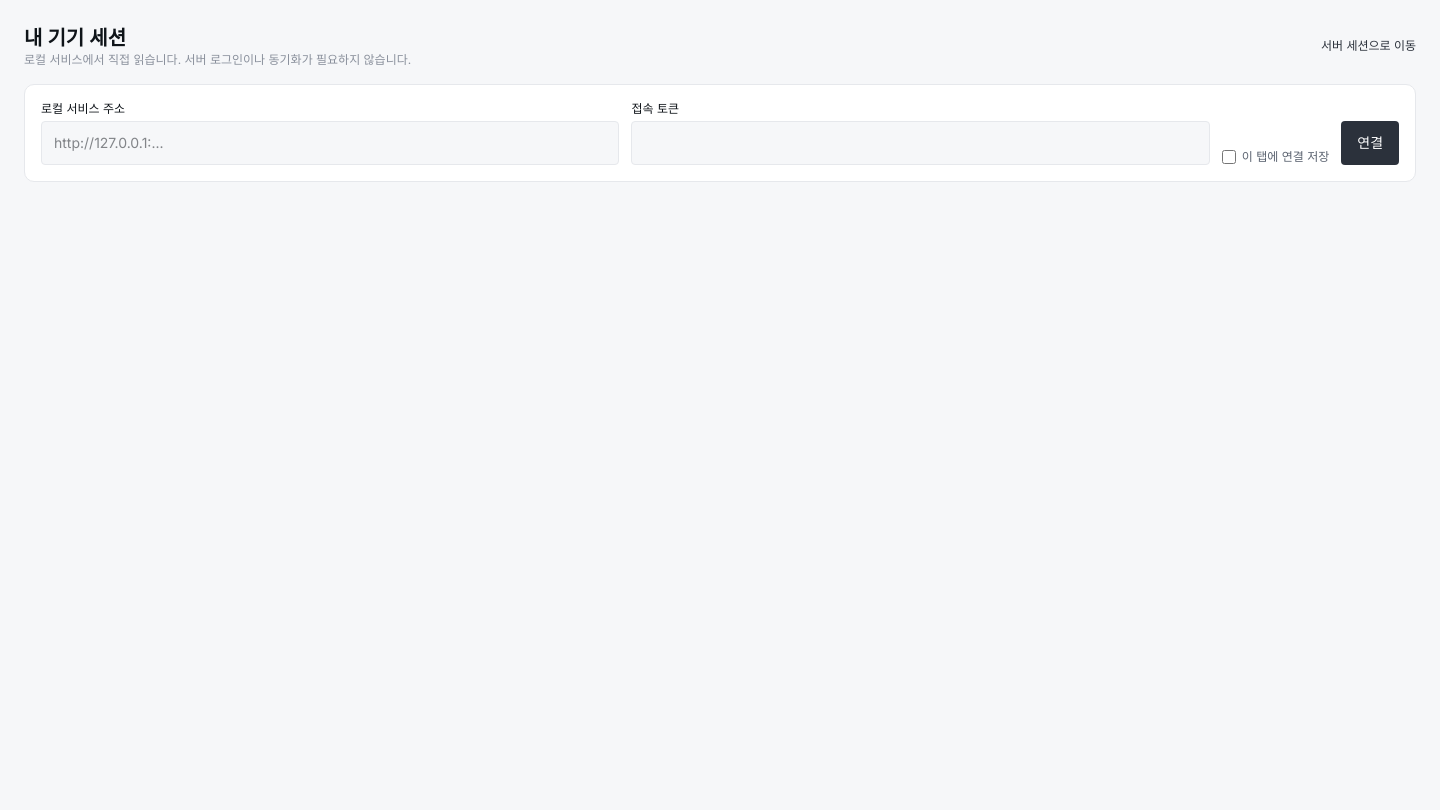
Scenario: LocalSessionsPanel › connects only on click, keeps the token out of storage, then shows local records
The image size is (1440, 810).
Type "http://127.0.0.1:4567" into the field labelled "로컬 서비스 주소".
click(330, 143); type("http://127.0.0.1:4567")  # box [41, 121, 619, 165]
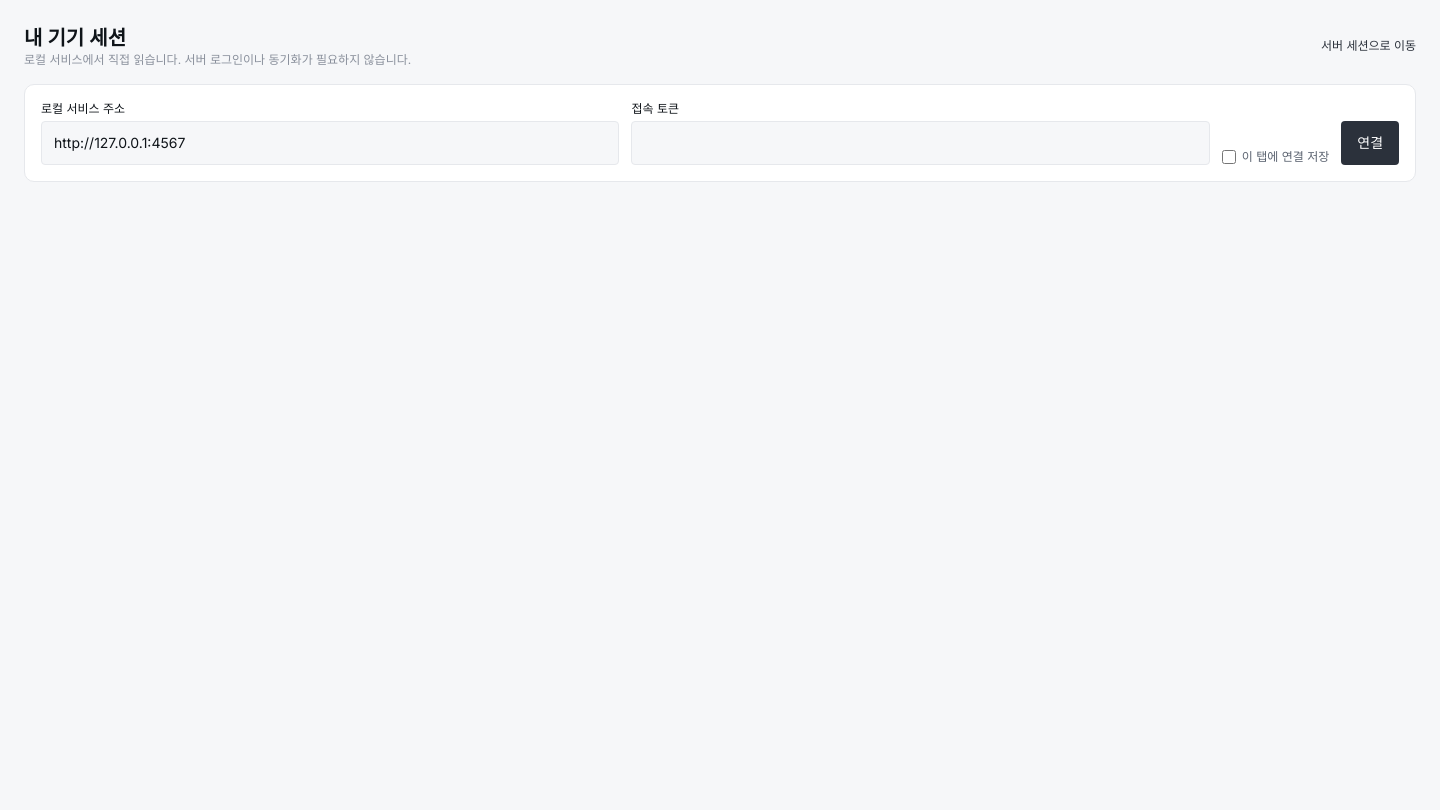
Type "temporary-value" into the password field labelled "접속 토큰".
click(921, 143); type("temporary-value")  # box [631, 121, 1210, 165]
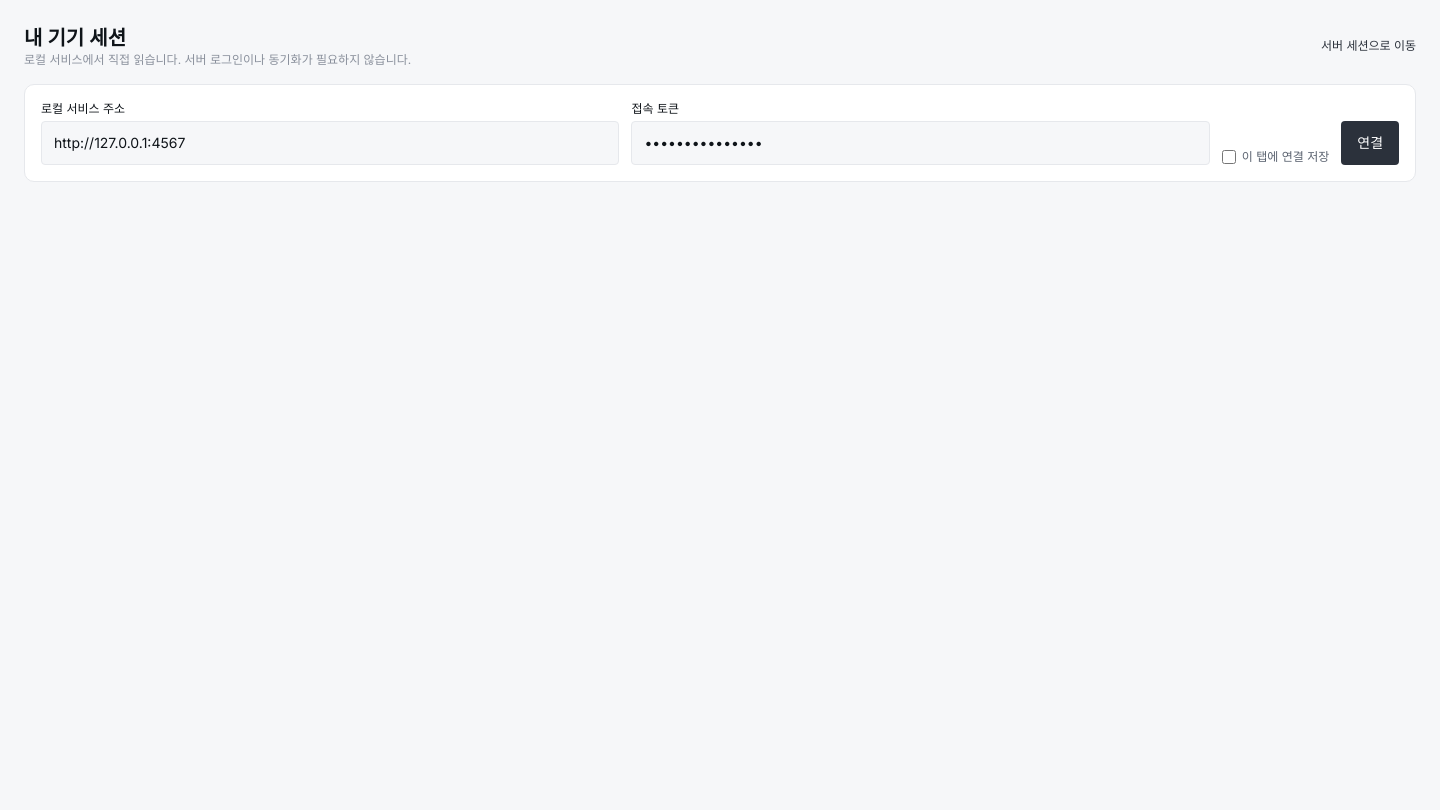
Click the button "연결".
click(1370, 143)  # box [1341, 121, 1399, 165]
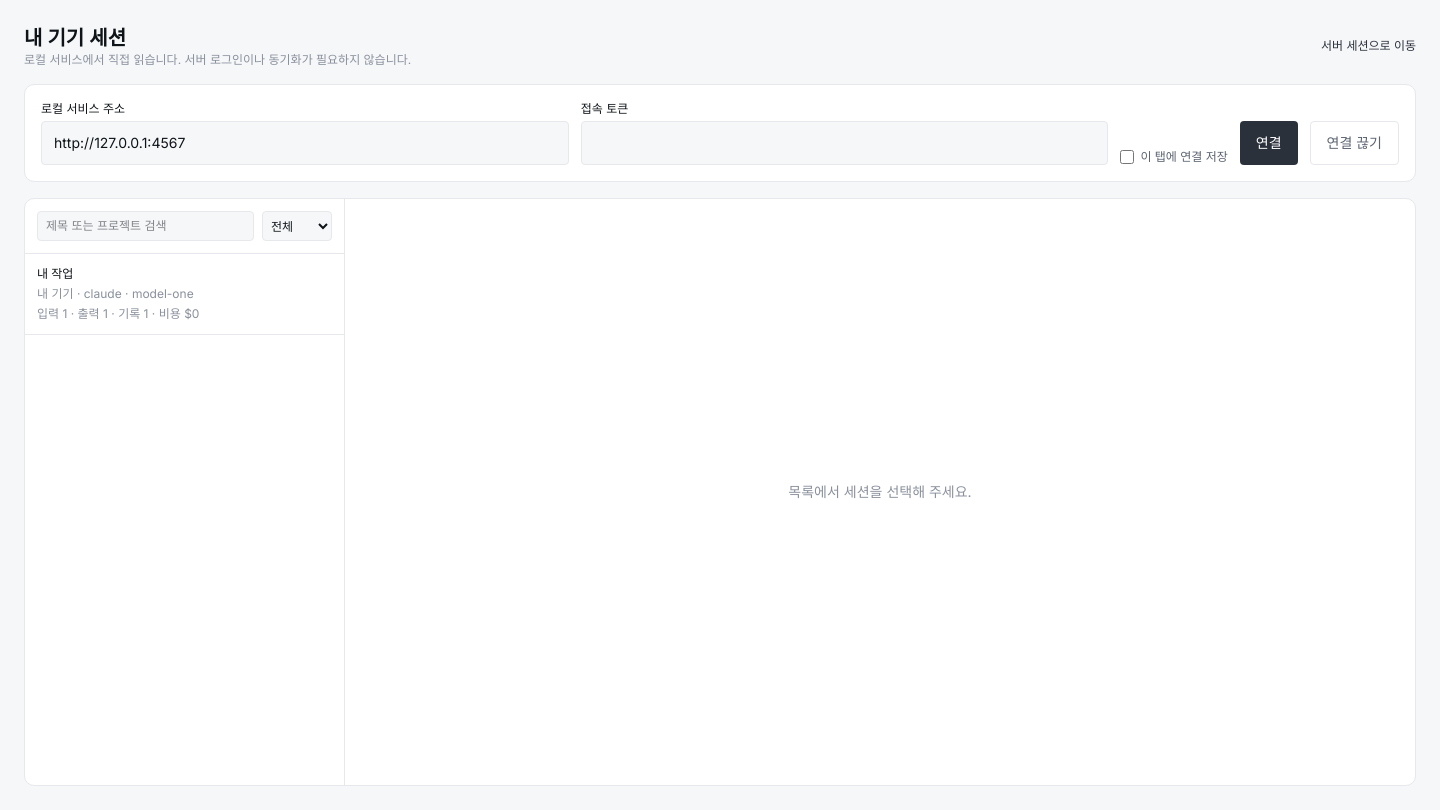
Check: the text "내 작업" is shown, box [37, 266, 73, 282]
Check: the password field labelled "접속 토큰" is empty, box [581, 121, 1108, 165]
Click the button "내 작업 내 기기 · claude · model-one 입력 1 · 출력 1 · 기록 1 · 비용 $0".
click(184, 294)  # box [25, 254, 344, 334]
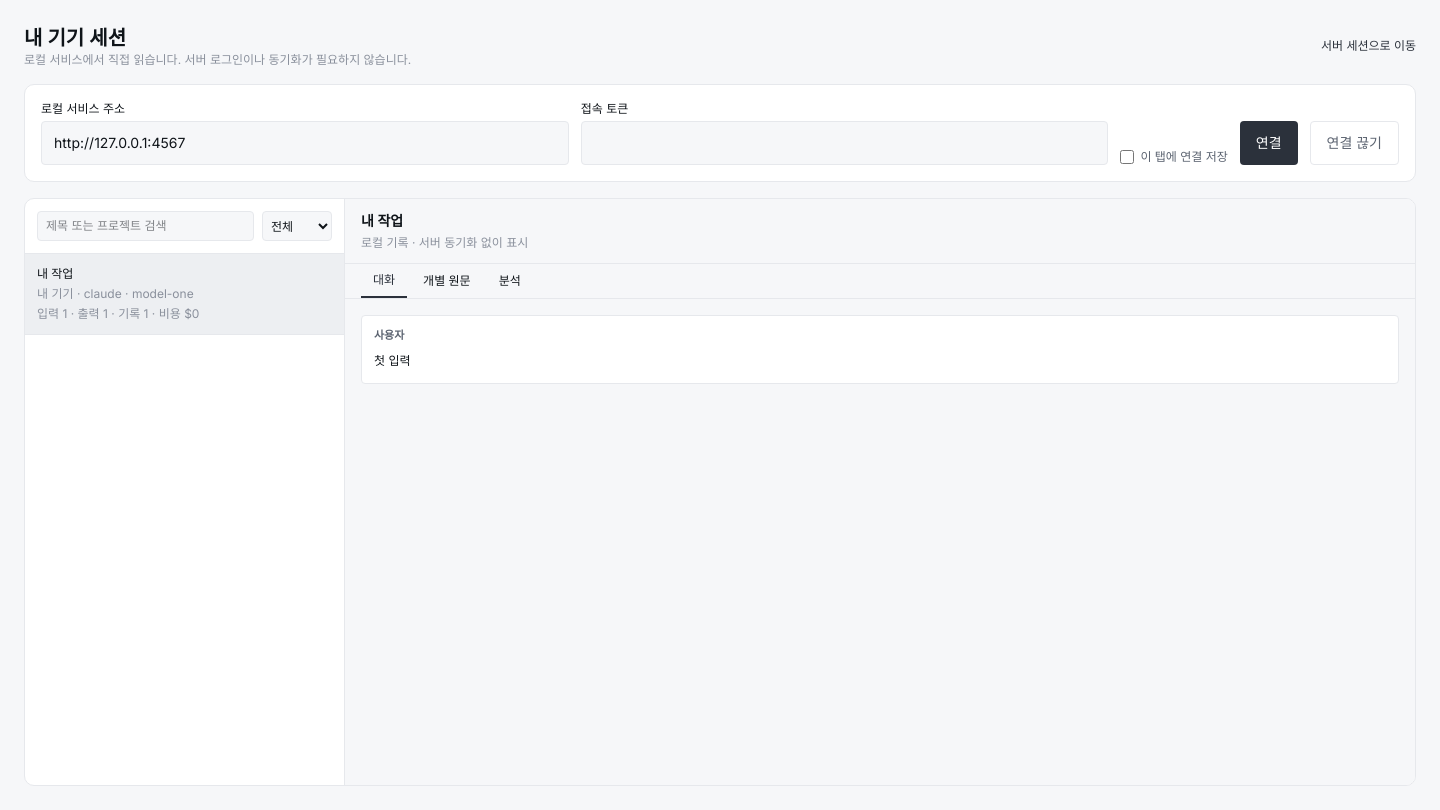
Check: the text "첫 입력" is shown, box [374, 353, 410, 368]
